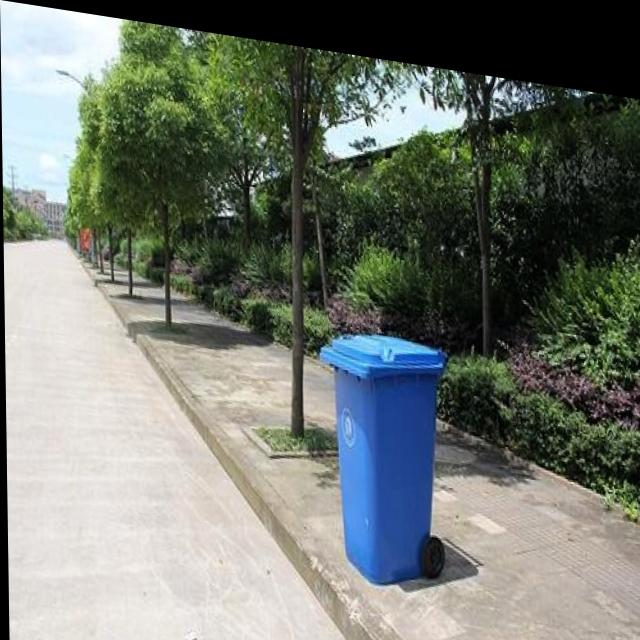garbage_bin: (316, 311, 447, 581)
